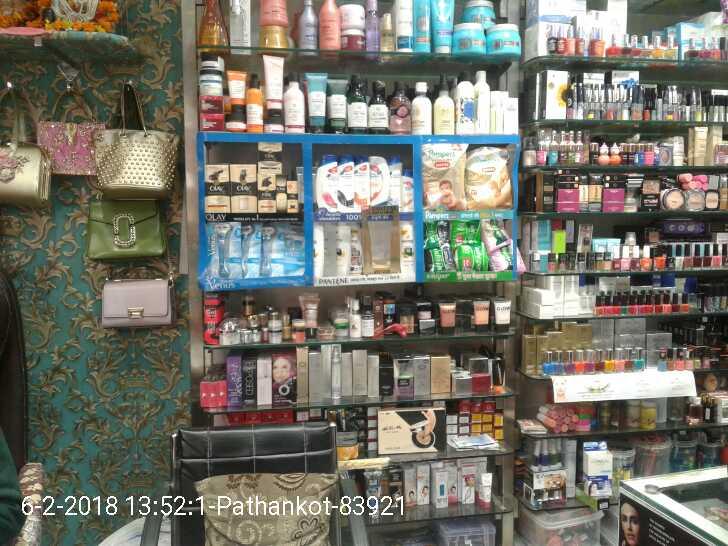venus: (207, 222, 242, 277), (242, 221, 263, 278), (263, 221, 282, 275), (282, 231, 305, 275)
